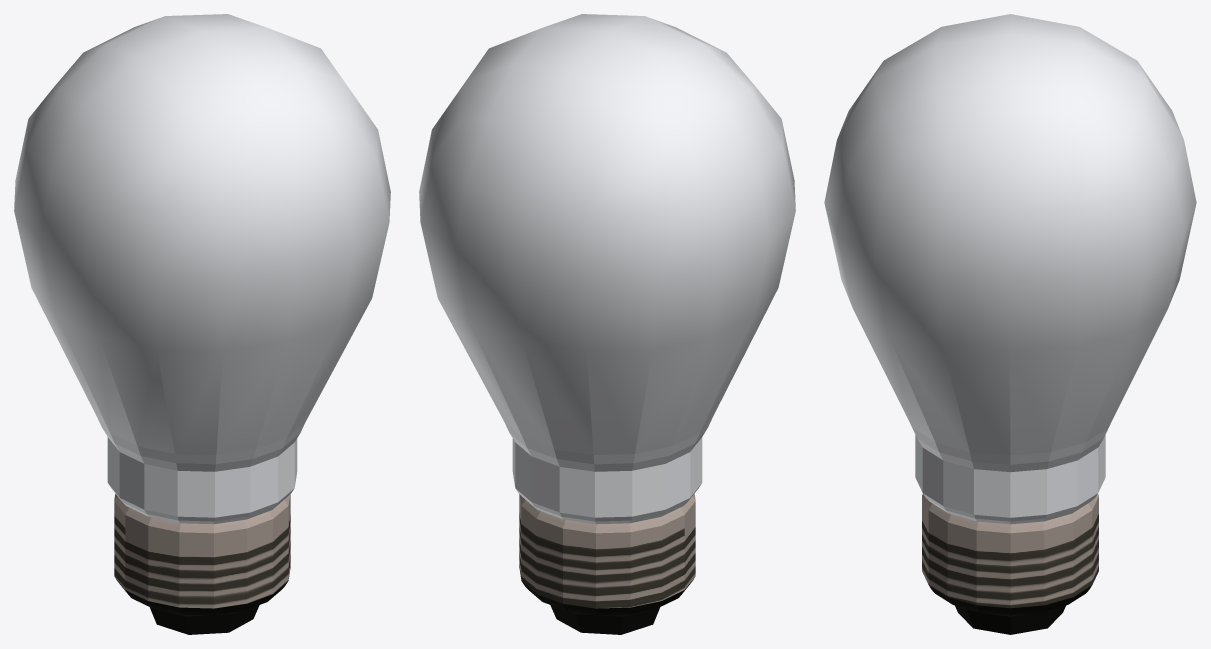
Rendered from Light.fbx.
The picture shows the model from 3 angles, left to right: view 1: azimuth 30°, elevation 25°; view 2: azimuth 150°, elevation 25°; view 3: azimuth 270°, elevation 25°; orthographic projection.
Parts seen in each view (by area): view 1: pCube1; view 2: pCube1; view 3: pCube1.
Part boxes in pixels (x1=…): pCube1: x1=14, y1=14, x2=390, y2=634; pCube1: x1=419, y1=14, x2=795, y2=634; pCube1: x1=824, y1=14, x2=1196, y2=634.
Size of the model in its own units: 26.35 by 45.21 by 26.35.
1 material, 1 textured.
